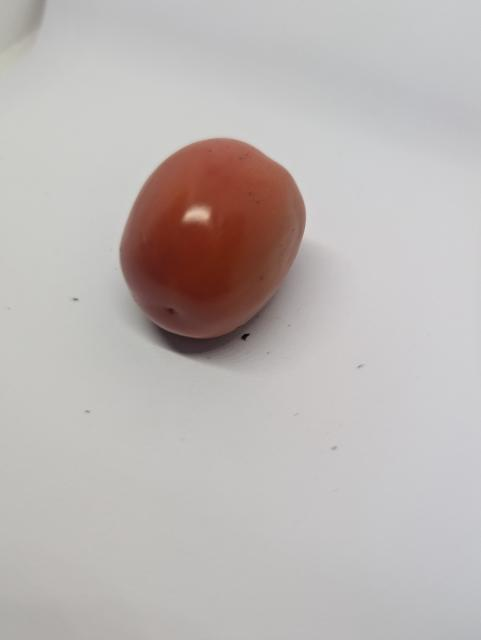red: (114, 135, 315, 351)
